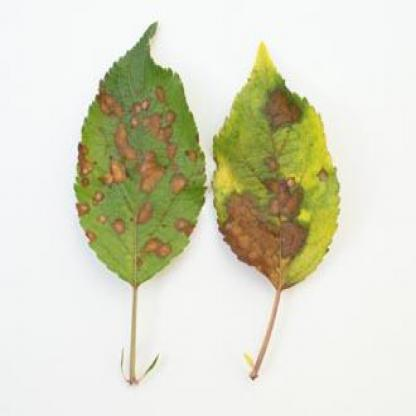Apple Scab Leaf: (68, 17, 209, 306), (220, 20, 350, 304)
